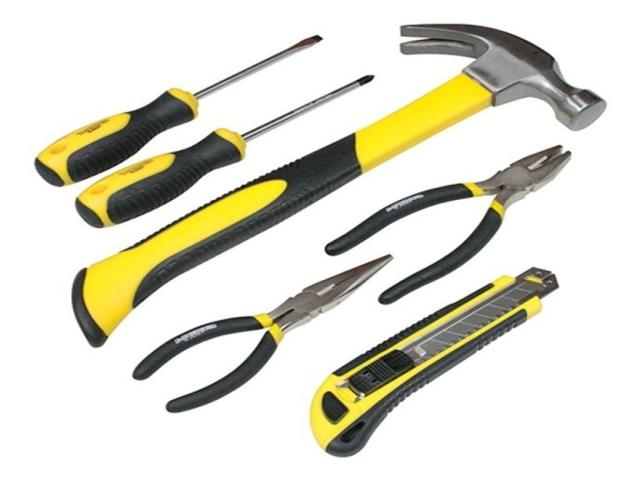Hammer: (72, 24, 605, 346)
Needle-nose pliers: (132, 254, 392, 412)
Pliers: (326, 145, 571, 304)
Screwdriver: (76, 76, 372, 228), (35, 35, 321, 185)
Utility knife: (311, 268, 558, 456)
